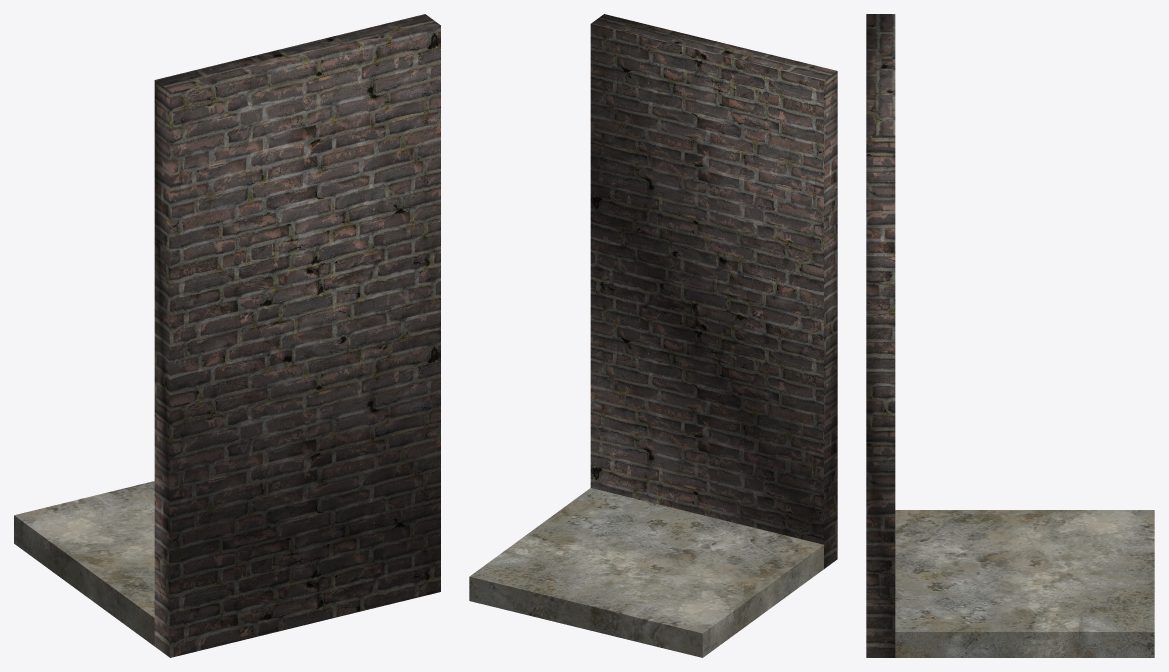
File: Wall_floor_noend_nodoor.fbx
The picture shows the model from 3 angles, left to right: view 1: azimuth 30°, elevation 25°; view 2: azimuth 150°, elevation 25°; view 3: azimuth 270°, elevation 25°; orthographic projection. The views are drawn at different scales.
Visible parts, largest first — view 1: Wall_floor_noroof_noend_nodoor; view 2: Wall_floor_noroof_noend_nodoor; view 3: Wall_floor_noroof_noend_nodoor.
Part boxes in pixels (x1=…): Wall_floor_noroof_noend_nodoor: x1=14, y1=14, x2=440, y2=657; Wall_floor_noroof_noend_nodoor: x1=469, y1=14, x2=837, y2=657; Wall_floor_noroof_noend_nodoor: x1=866, y1=14, x2=1154, y2=657.
Bounding box in the file's own units: 100 × 200 × 100.
